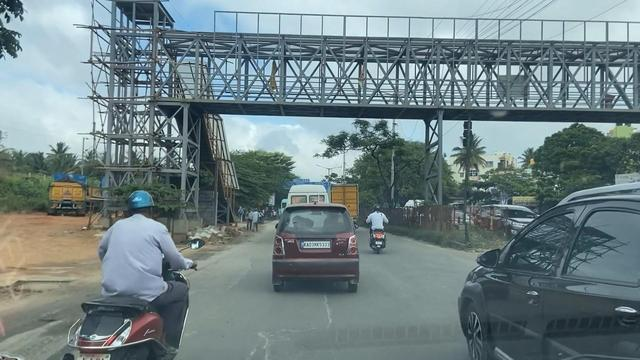LMV: (273, 207, 360, 288), (369, 206, 389, 251)
RoadDamages: (243, 323, 339, 360), (219, 255, 260, 291), (320, 293, 337, 326)
